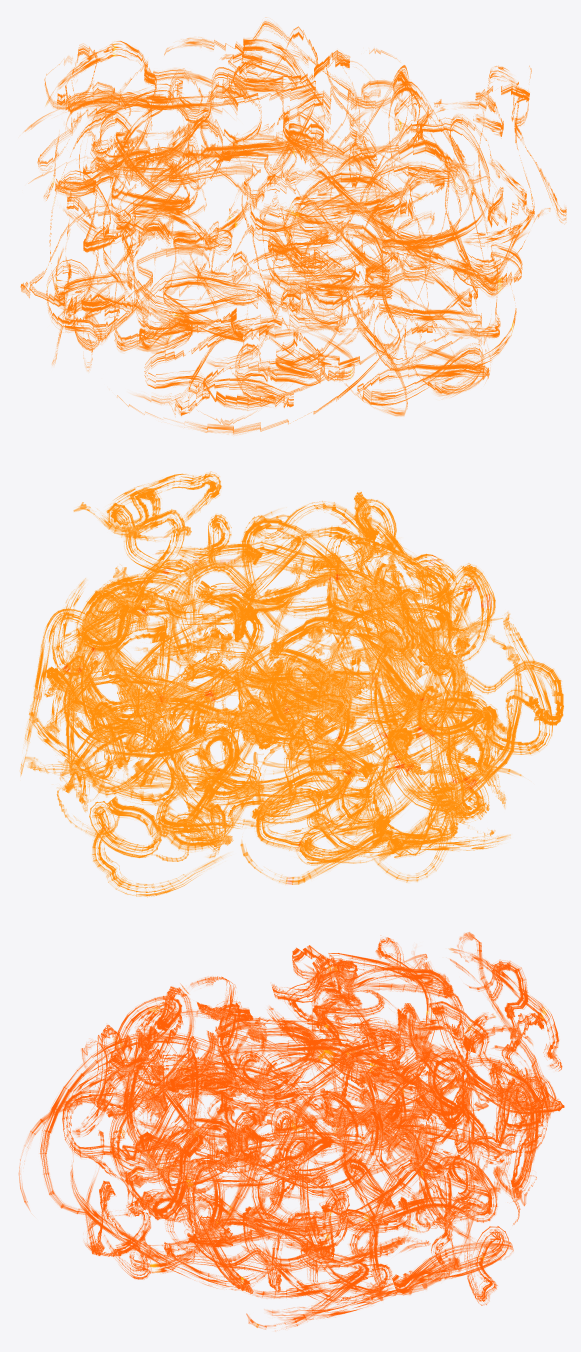
3 views of the same model, one above another, from view 1: azimuth 30°, elevation 25°; view 2: azimuth 150°, elevation 25°; view 3: azimuth 270°, elevation 25° (orthographic). The views are drawn at different scales.
Visible parts, largest first — view 1: Mesh Renderer.101, Mesh Renderer.018, Mesh Renderer.070, Mesh Renderer.080, Mesh Renderer.016, Mesh Renderer.067, Mesh Renderer.020, Mesh Renderer.002, Mesh Renderer.069, Mesh Renderer, Mesh Renderer.015, Mesh Renderer.082 (+58 smaller); view 2: Mesh Renderer.070, Mesh Renderer.101, Mesh Renderer.080, Mesh Renderer.069, Mesh Renderer.042, Mesh Renderer.022, Mesh Renderer.067, Mesh Renderer.013, Mesh Renderer.009, Mesh Renderer.052, Mesh Renderer.023, Mesh Renderer.002 (+69 smaller); view 3: Mesh Renderer.101, Mesh Renderer.013, Mesh Renderer.003, Mesh Renderer.024, Mesh Renderer.069, Mesh Renderer.071, Mesh Renderer.023, Mesh Renderer.077, Mesh Renderer.070, Mesh Renderer.052, Mesh Renderer.080, Mesh Renderer.085 (+69 smaller).
Part boxes in pixels (x1,y1,x2,y2): Mesh Renderer.101: (207,17,403,135); Mesh Renderer.018: (198,200,403,425); Mesh Renderer.070: (37,104,210,313); Mesh Renderer.080: (20,100,150,370); Mesh Renderer.016: (357,309,489,405); Mesh Renderer.067: (24,80,315,179); Mesh Renderer.020: (65,271,334,350); Mesh Renderer.002: (116,88,427,246); Mesh Renderer.069: (44,43,206,221); Mesh Renderer: (235,314,354,385); Mesh Renderer.015: (269,176,454,360); Mesh Renderer.082: (188,277,369,407); Mesh Renderer.070: (342,623,563,811); Mesh Renderer.101: (66,559,194,737); Mesh Renderer.080: (351,634,489,882); Mesh Renderer.069: (164,643,350,827); Mesh Renderer.042: (58,759,407,865); Mesh Renderer.022: (154,693,371,861); Mesh Renderer.067: (63,669,399,758); Mesh Renderer.013: (117,562,281,711); Mesh Renderer.009: (132,729,446,828); Mesh Renderer.052: (269,566,420,773); Mesh Renderer.023: (57,787,222,897); Mesh Renderer.002: (84,639,417,774); Mesh Renderer.101: (331,1042,546,1162); Mesh Renderer.013: (140,1117,275,1293); Mesh Renderer.003: (137,1099,440,1236); Mesh Renderer.024: (349,1156,497,1281); Mesh Renderer.069: (457,932,547,1193); Mesh Renderer.071: (39,1000,243,1216); Mesh Renderer.023: (392,1218,513,1305); Mesh Renderer.077: (413,1023,564,1135); Mesh Renderer.070: (197,937,449,1081); Mesh Renderer.052: (305,953,466,1056); Mesh Renderer.080: (312,954,427,1169); Mesh Renderer.085: (109,986,194,1125).
Bounding box in the file's own units: 2.73 × 1.7 × 2.84.
1 material, 1 textured.
